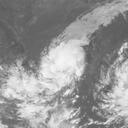cyclone: (38, 42, 86, 87)
